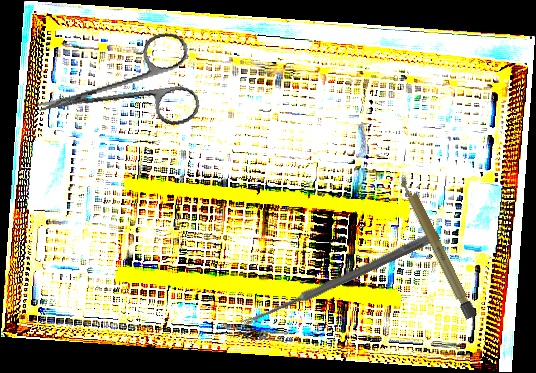Iris Scissors: (27, 28, 203, 151)
Scalpel Handle: (396, 172, 478, 320)
Surgical Spoon: (239, 228, 441, 331)
